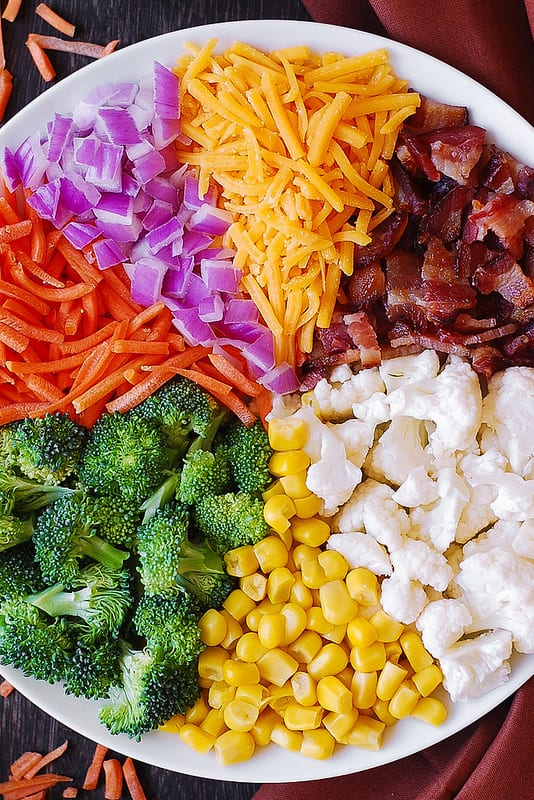bacon: (405, 144, 525, 334)
